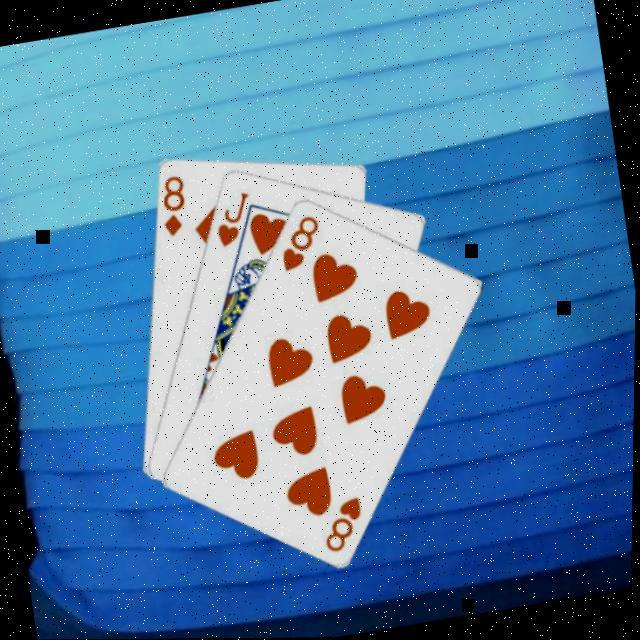8D: (153, 170, 195, 240)
8H: (272, 209, 328, 274), (316, 491, 372, 556)
JH: (206, 186, 258, 250)
